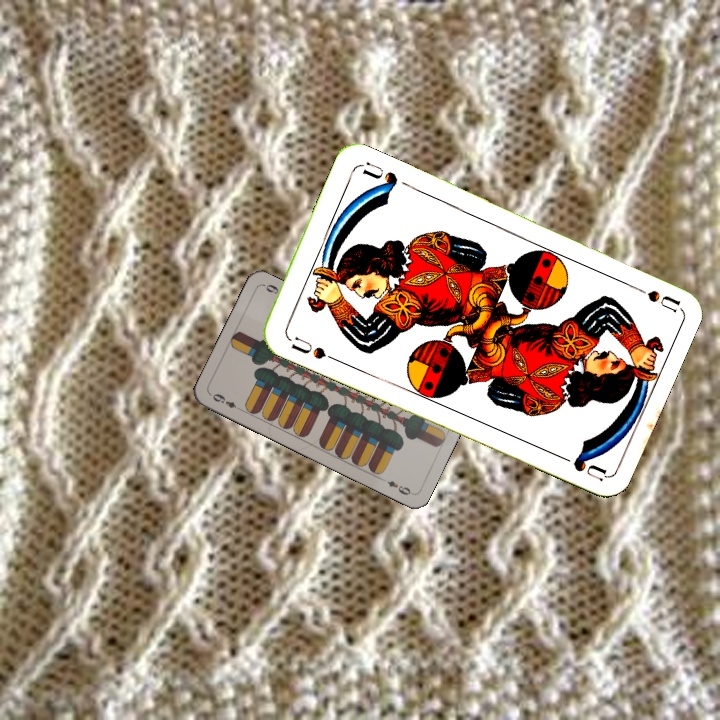E9: (207, 389, 245, 413)
SU: (623, 279, 681, 314), (283, 332, 339, 364)
